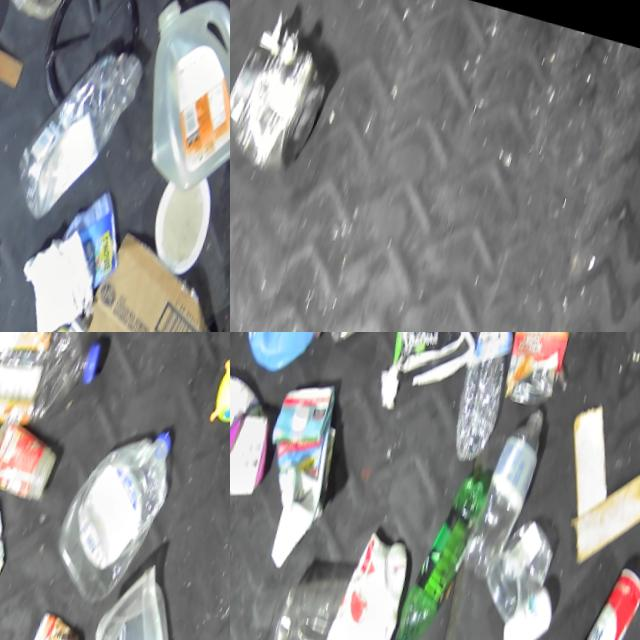can: (230, 21, 342, 177), (553, 548, 640, 640), (495, 332, 583, 405), (15, 602, 99, 640), (0, 490, 25, 601)
milk_jug: (239, 367, 365, 577), (114, 0, 230, 198), (230, 360, 294, 510)
non_white_jug: (230, 332, 365, 384)
plastic_bottle: (48, 405, 191, 608), (9, 24, 151, 228), (464, 391, 559, 584), (0, 332, 118, 449), (441, 332, 536, 467)
